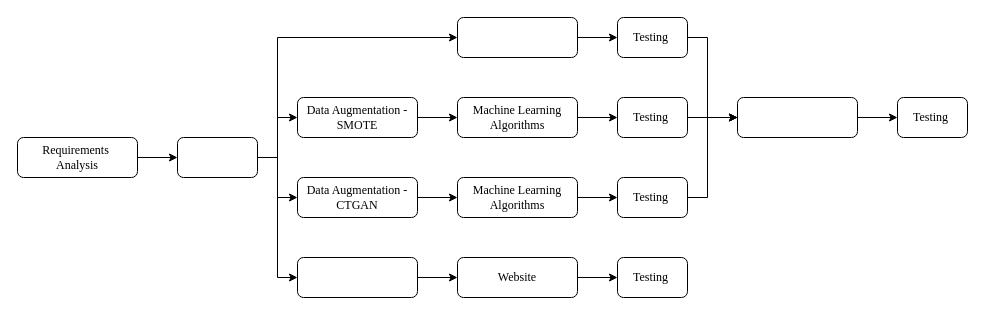
Some shapes in this 985 by 315 pixel diagram are drawn without their labels. The shapes that lost their labels are listed below. From the top down, each one's box as (x1, y1, x2, y2) in pixels, then its label:
(456, 16, 578, 58): Bagging and Boosting
(736, 96, 858, 138): Stacking Model
(176, 136, 258, 178): Data Preprocessing
(296, 256, 418, 298): LLM Selection
